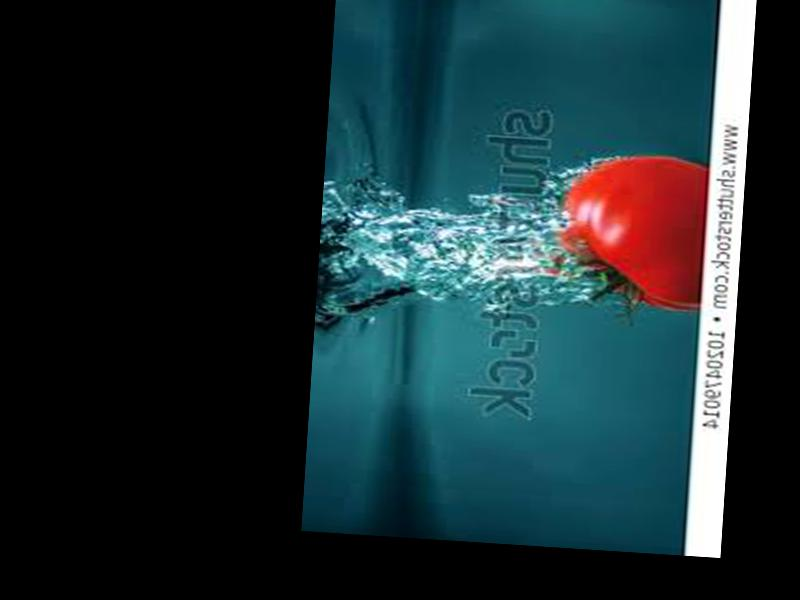Tomato: (556, 151, 710, 312)
